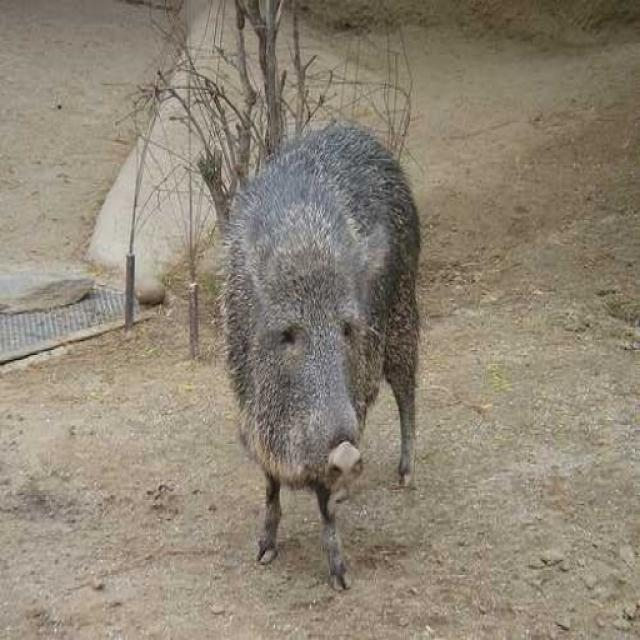pig: (210, 114, 466, 572)
